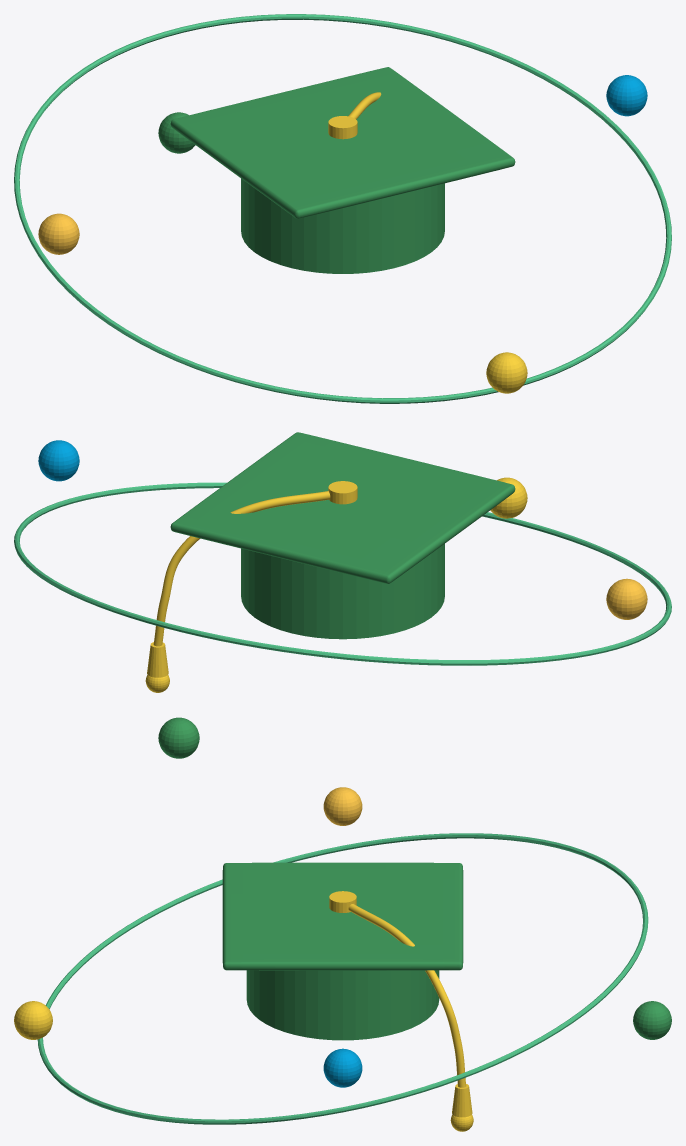
Rendered from smartstudy-cap.glb.
3 views of the same model, one above another, from view 1: azimuth 30°, elevation 25°; view 2: azimuth 150°, elevation 25°; view 3: azimuth 270°, elevation 25° (orthographic). The views are drawn at different scales.
Parts seen in each view (by area): view 1: Board, Base, OrbitRing, Node3, Node2, Node0, Node1, Button; view 2: Board, Base, OrbitRing, TasselCord, Node0, Node1, Node2, Node3, Pendant, Button; view 3: Board, Base, OrbitRing, TasselCord, Node2, Node0, Node1, Node3, Pendant, Button.
Part boxes in pixels (x1,y1,x2,y2): Board: [170, 67, 515, 218]; Base: [241, 178, 444, 273]; OrbitRing: [14, 14, 671, 403]; Node3: [486, 352, 527, 393]; Node2: [38, 213, 79, 254]; Node0: [606, 75, 647, 116]; Node1: [158, 112, 195, 153]; Button: [328, 116, 357, 139]; Board: [170, 432, 515, 583]; Base: [241, 544, 444, 639]; OrbitRing: [14, 482, 671, 665]; TasselCord: [153, 491, 330, 646]; Node0: [38, 440, 79, 481]; Node1: [158, 717, 199, 758]; Node2: [606, 578, 647, 619]; Node3: [490, 477, 527, 518]; Pendant: [147, 642, 168, 677]; Button: [328, 481, 357, 504]; Board: [222, 862, 463, 970]; Base: [246, 970, 439, 1040]; OrbitRing: [37, 833, 648, 1124]; TasselCord: [348, 904, 466, 1087]; Node2: [323, 787, 362, 825]; Node0: [323, 1048, 362, 1087]; Node1: [633, 1001, 671, 1039]; Node3: [14, 1001, 52, 1039]; Pendant: [452, 1084, 472, 1117]; Button: [329, 891, 356, 912].
Bounding box in the file's own units: 2.87 × 0.855 × 2.87.
